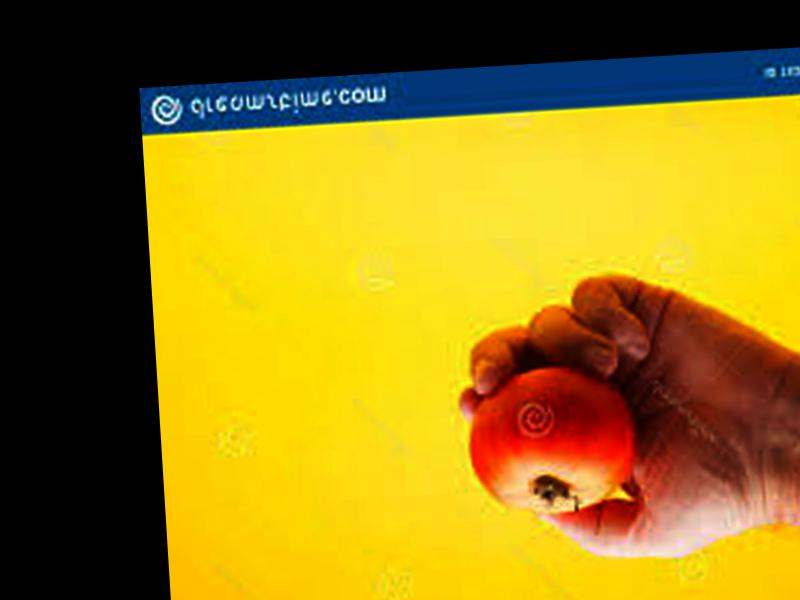Tomato: (467, 362, 639, 517)
